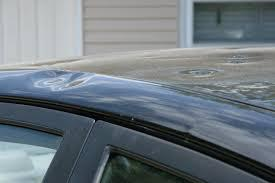roof-dent: (0, 54, 166, 132), (154, 47, 274, 154)
